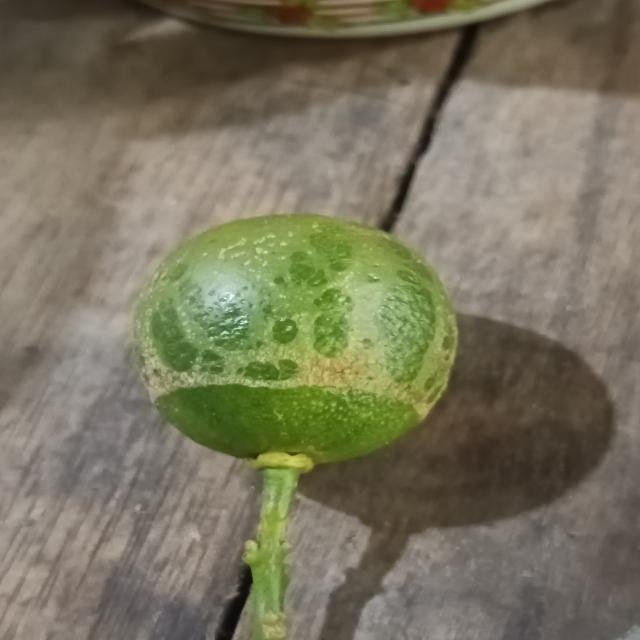thrips: (129, 216, 462, 477)
